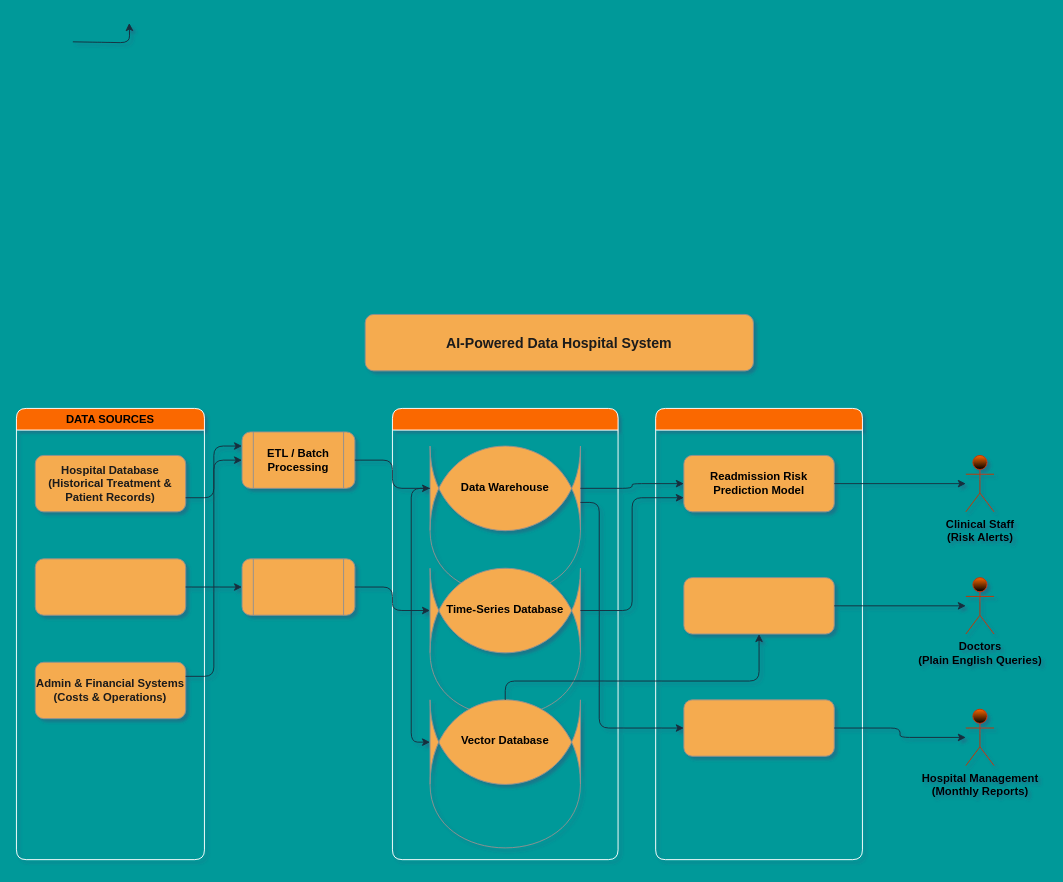
Some shapes in this 1063 by 882 pixel diagram are drawn without their labels. Each missing label, with the box of its shape:
AI & ANALYTICS LAYER: (655, 407, 862, 860)
BI & Reporting Dashboard: (683, 699, 834, 756)
I CU Monitoring Devices (Real-Time Vitals): (34, 558, 186, 615)
Semantic Search UI: (683, 577, 834, 634)
STORAGE SYSTEMS: (392, 407, 618, 860)
Stream Processing (Kafka / Spark): (241, 558, 355, 615)
